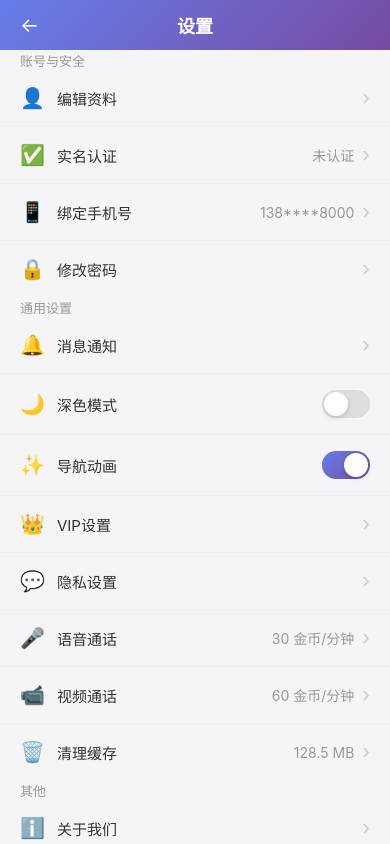
Test: Settings 更换手机号（P1-8） › 点「获取验证码」调一次 send-code，并回填测试模式返回的两个验证码
Step 1. Click the element with class "menu-item" showing "📱 绑定手机号 138****8000 ›" → (195, 212), box [0,184,389,241]
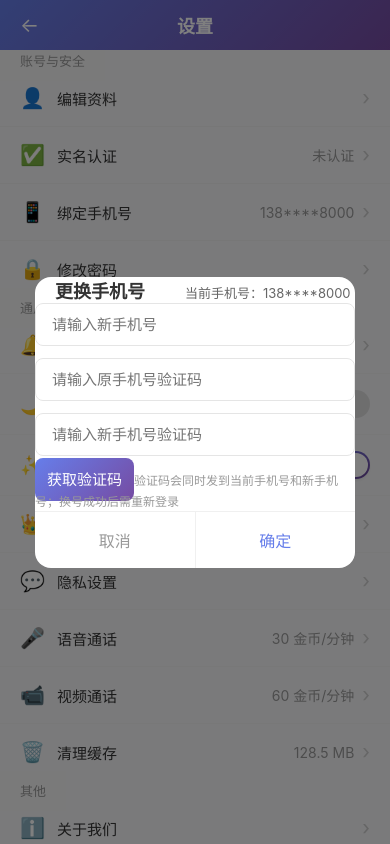
Step 2. Type "13900000000" into the field with class "modal-input" showing "请输入新手机号" → (195, 324), box [35,302,355,346]
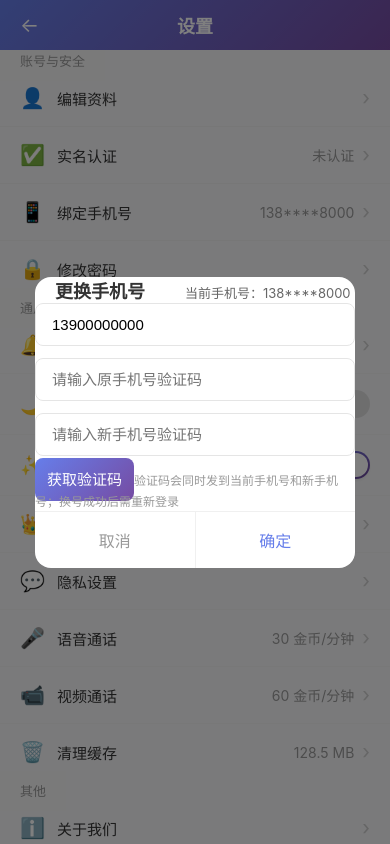
Step 3. Click the button with class "code-btn" → (84, 479), box [35,458,134,500]
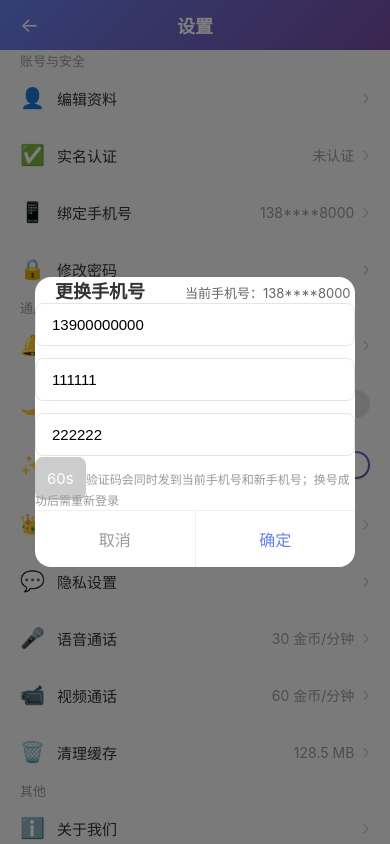
Check: the 2nd field with class "modal-input" holds "111111", box [35,358,355,401]
Check: the 3rd field with class "modal-input" holds "222222", box [35,413,355,456]
